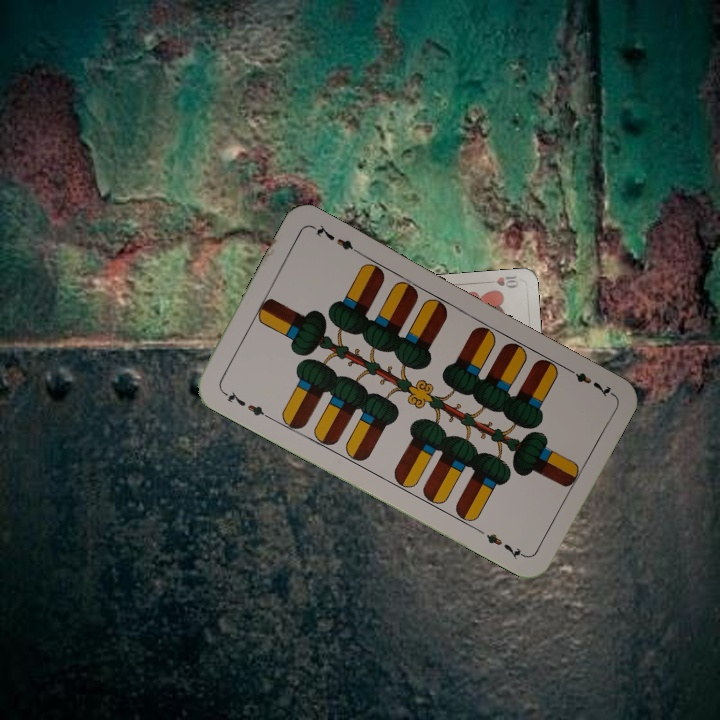E7: (561, 362, 615, 400), (218, 387, 272, 421)
H10: (481, 271, 521, 291)
